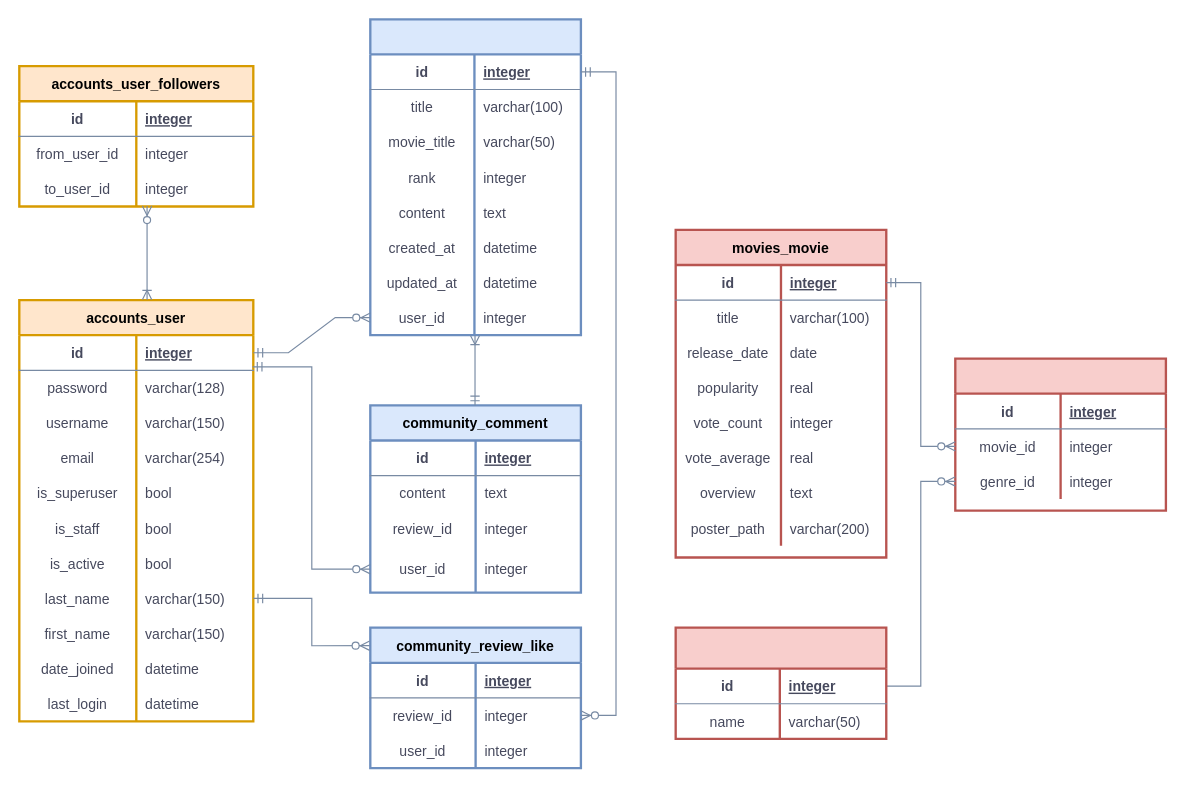
This 1185x787 diagram has some shape labels left out. The box of each missing label's shape, as (x1, y1, x2, y2) in pixels:
community_review: (369, 18, 581, 336)
movies_genre: (674, 626, 887, 739)
movies_movie_genres: (954, 357, 1166, 511)
